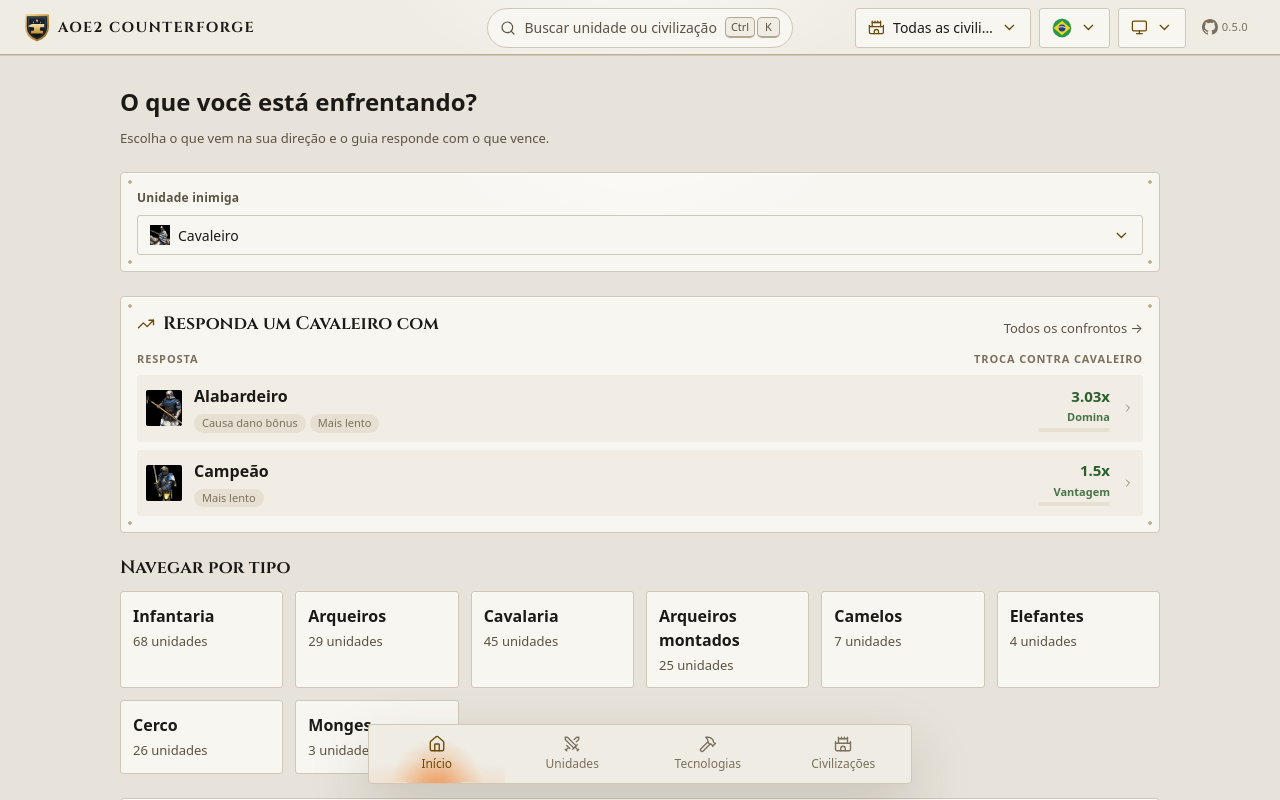
Scenario: App › opens the command palette from the header button
Click the button "Buscar unidade ou civilização Ctrl K": (640,28) [487,8,793,48]
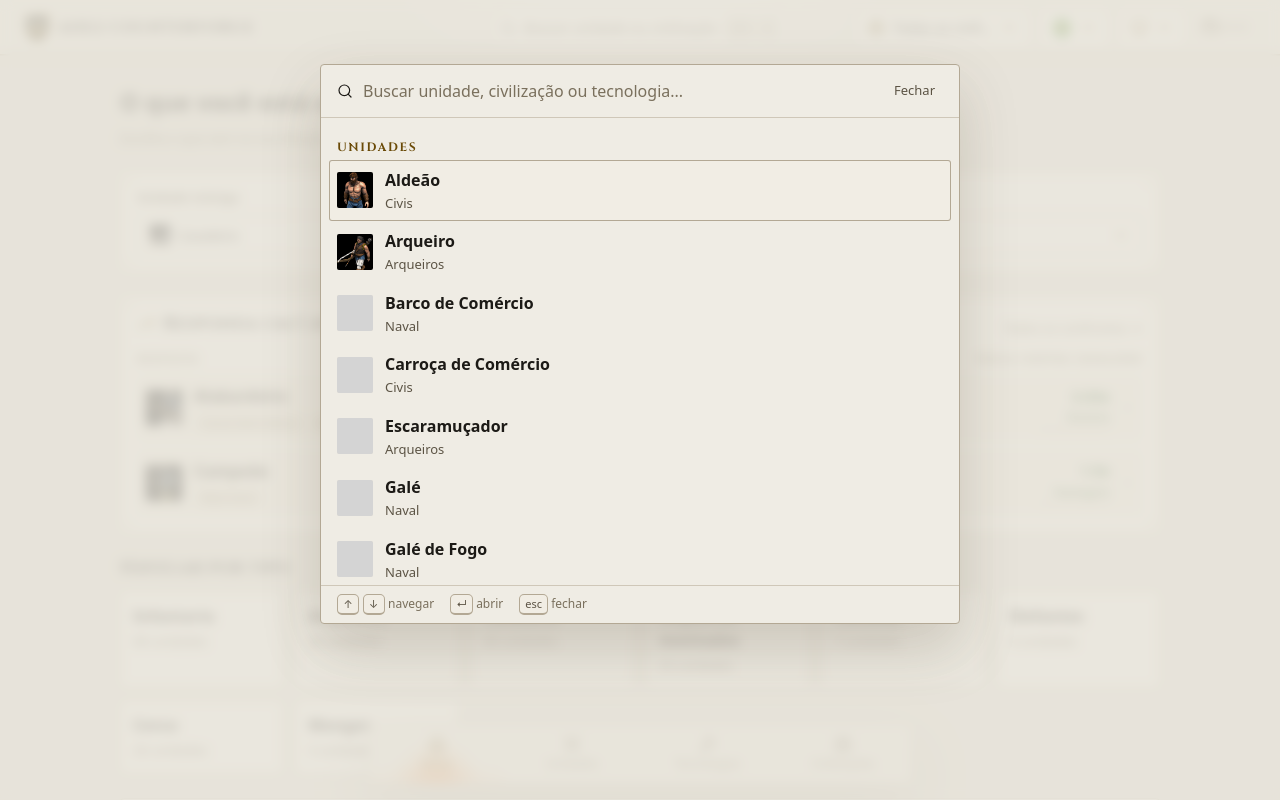
Check: the dialog is shown
